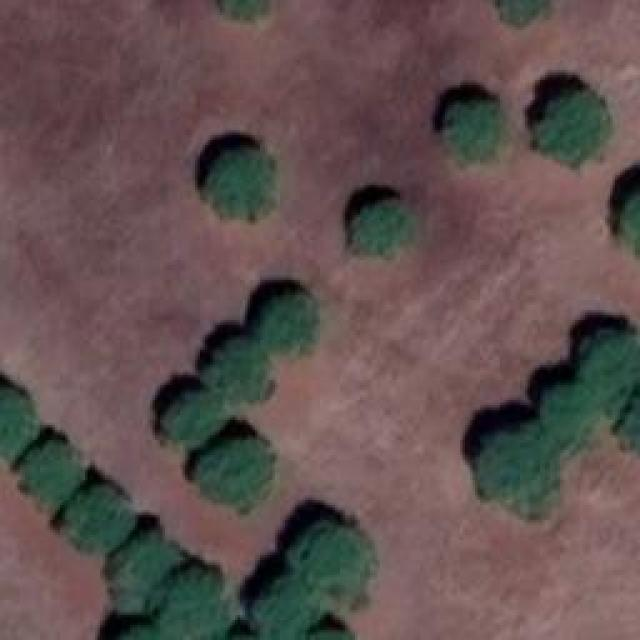Tree: (480, 425, 558, 515), (290, 525, 370, 595), (198, 440, 268, 505), (538, 93, 608, 158), (582, 332, 640, 410), (115, 538, 178, 608), (210, 150, 273, 218), (203, 338, 268, 401), (163, 572, 223, 640), (68, 488, 131, 548), (355, 200, 410, 258), (25, 445, 80, 500), (263, 583, 318, 638), (445, 103, 500, 158), (545, 385, 595, 445), (265, 295, 315, 348), (165, 398, 225, 441), (0, 390, 35, 453), (620, 377, 640, 465), (625, 175, 640, 255), (498, 0, 553, 20)
